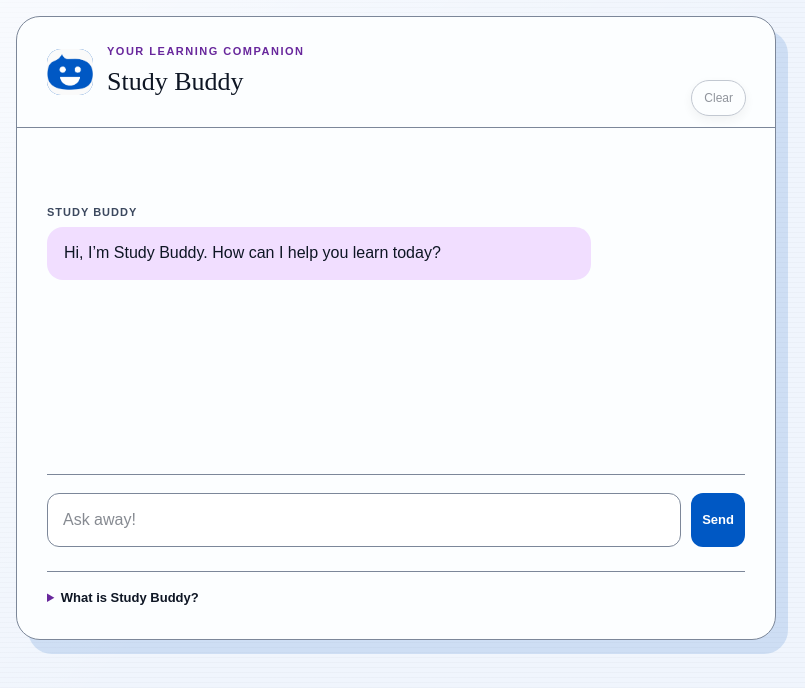
Test: ChatInterface › shows a submitted user message
This screenshot has width=805, height=688.
Type "Explain photosynthesis" into the field with placeholder "Ask away!" at (364, 520), box [47,492,681,546]
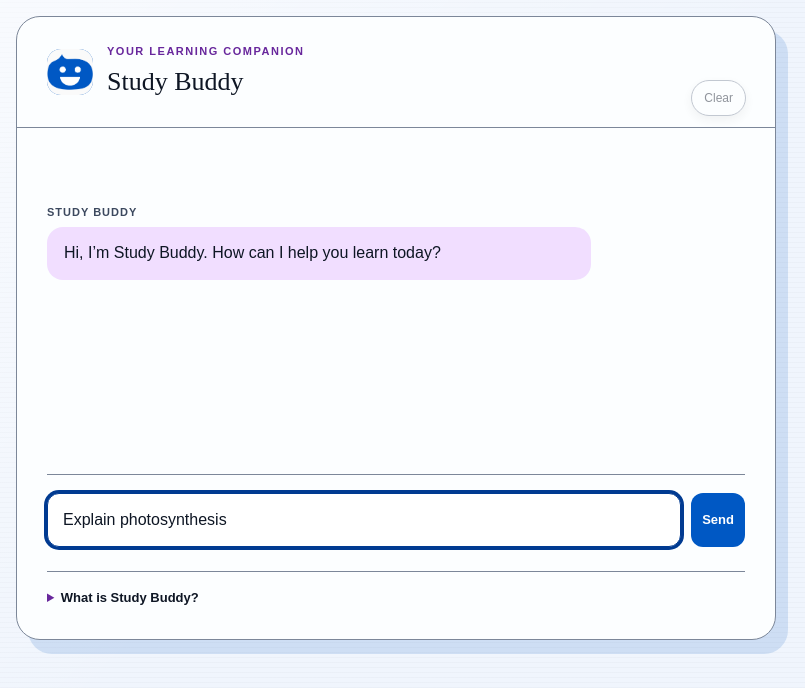
Click the button with aria-label "Send message" at (718, 520), box [691,492,745,546]
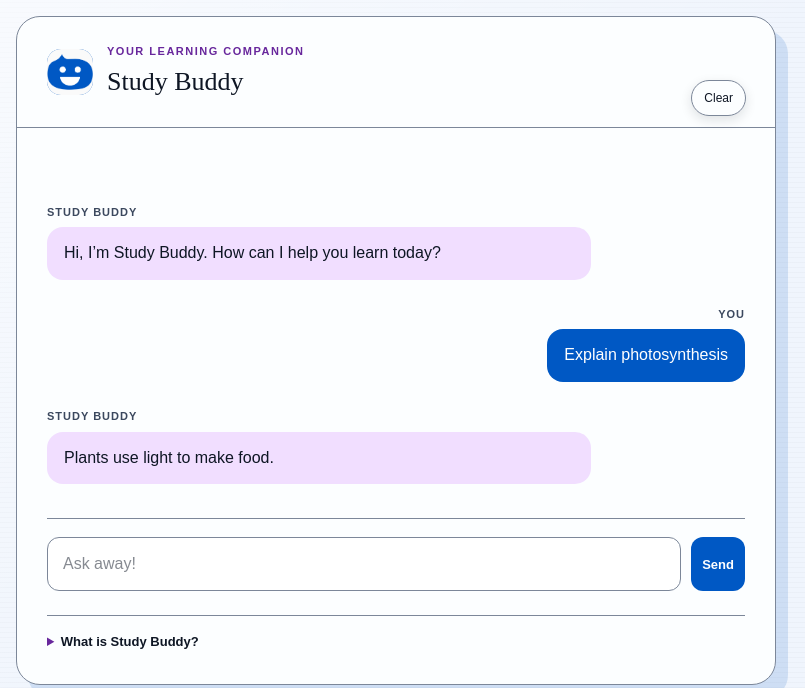
Expected: the text "Explain photosynthesis" is shown, [564,343,728,368]
Expected: the text "Plants use light to make food." is shown, [64,449,274,466]
